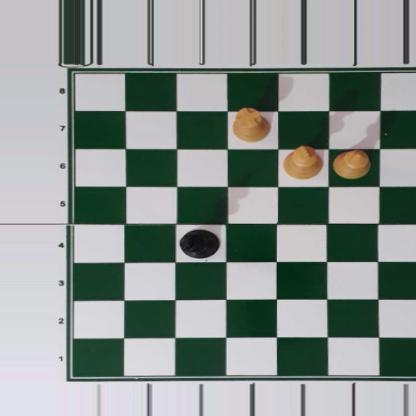black-king: (178, 229, 221, 260)
white-bishop: (333, 149, 370, 179)
white-king: (281, 144, 323, 180)
white-rook: (232, 108, 272, 142)
